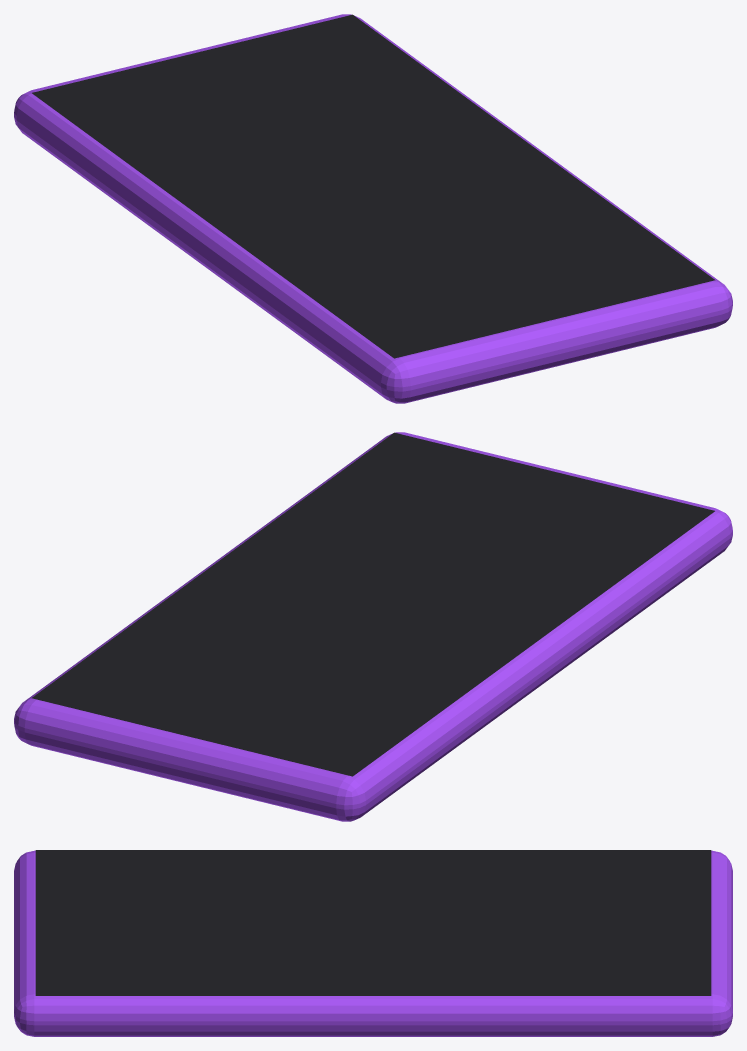
Rendered from infinix-gen-2026-flagship-2026.glb.
3 views of the same model, one above another, from view 1: azimuth 30°, elevation 25°; view 2: azimuth 150°, elevation 25°; view 3: azimuth 270°, elevation 25° (orthographic). The views are drawn at different scales.
Parts seen in each view (by area): view 1: Phone_Screen, Phone_Body; view 2: Phone_Screen, Phone_Body; view 3: Phone_Screen, Phone_Body.
Part boxes in pixels (x1,y1,x2,y2): Phone_Screen: (32,14,715,358); Phone_Body: (14,14,732,403); Phone_Screen: (31,432,714,776); Phone_Body: (14,432,732,821); Phone_Screen: (35,850,711,995); Phone_Body: (14,850,732,1036).
Size of the model in its own units: 0.0759 by 0.0092 by 0.1453.
